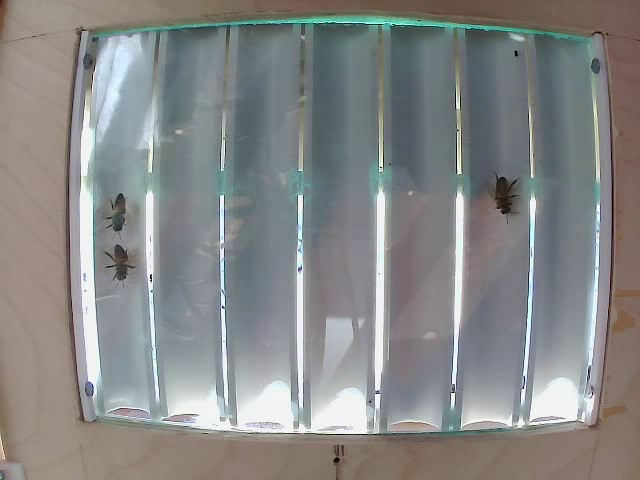bee: (486, 184, 523, 230), (103, 198, 139, 230), (112, 255, 143, 288)
